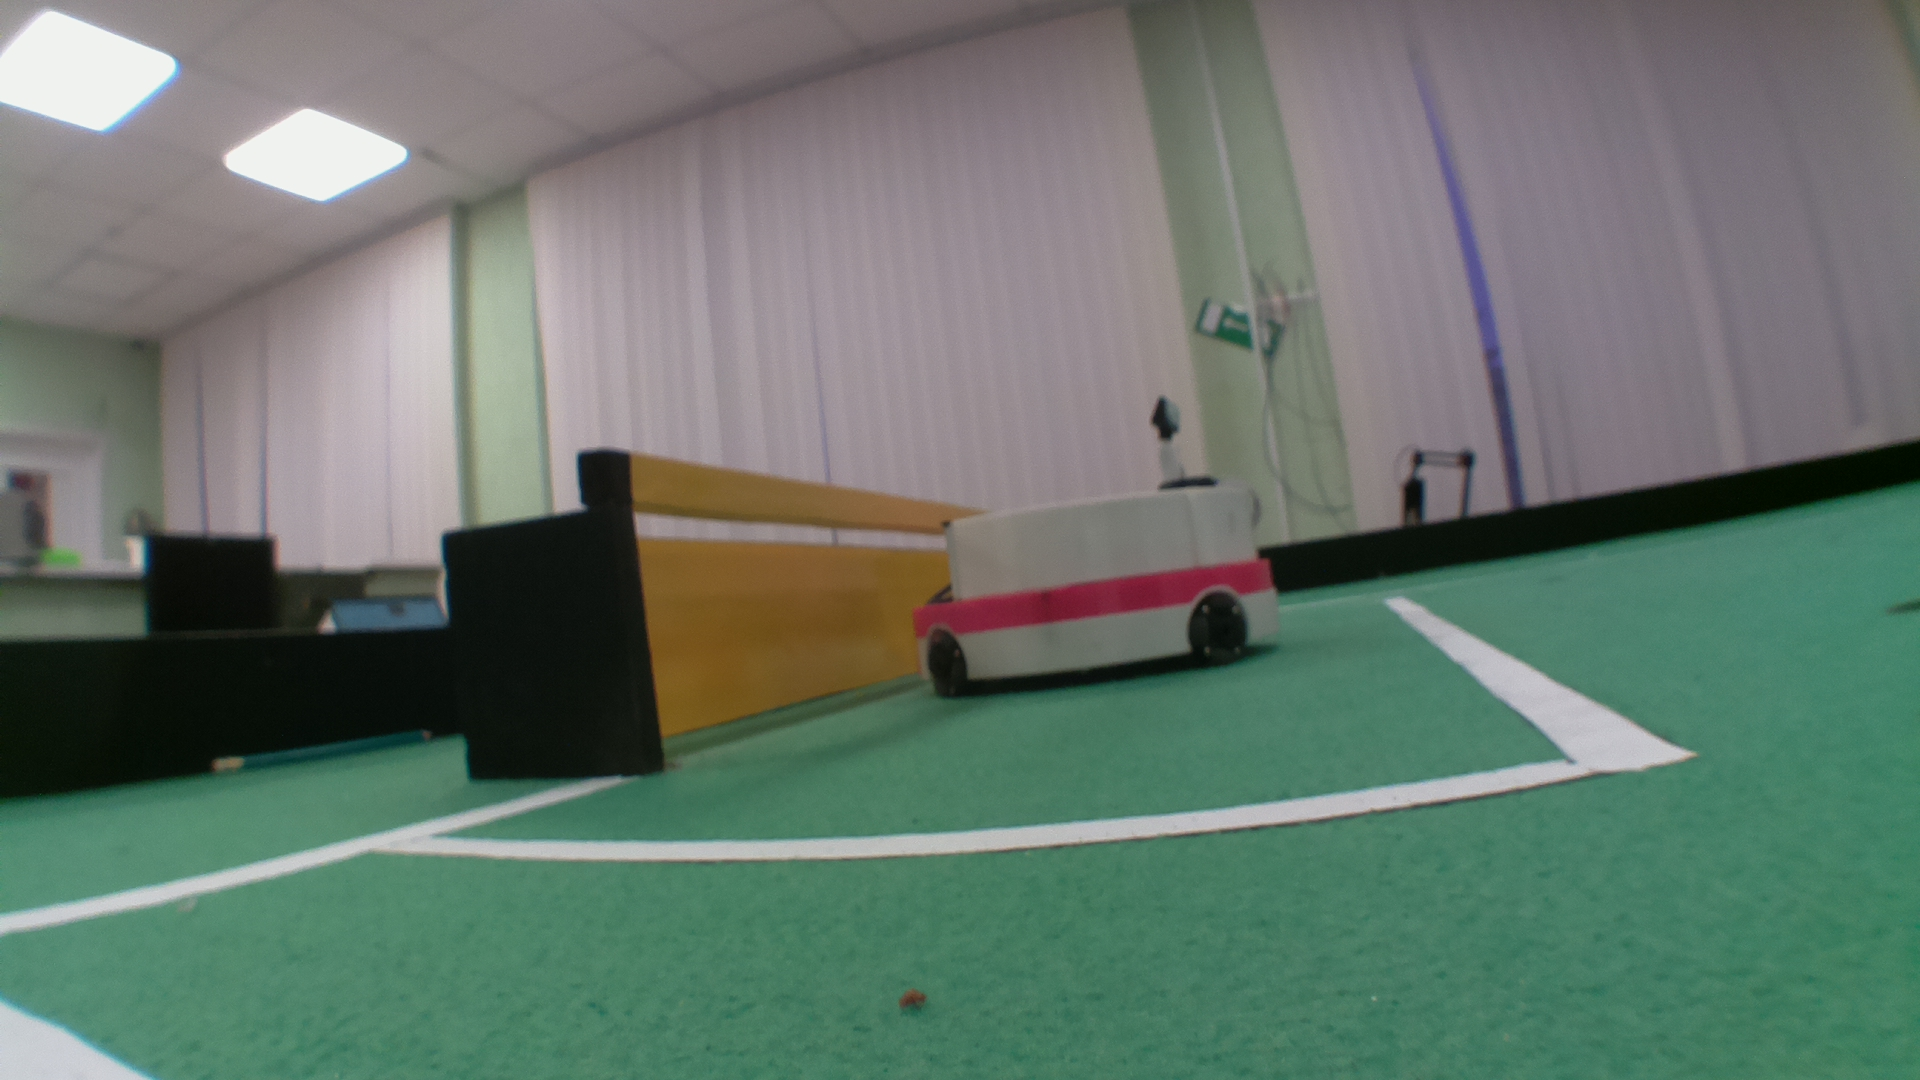YellowGoal: (630, 454, 948, 721)
